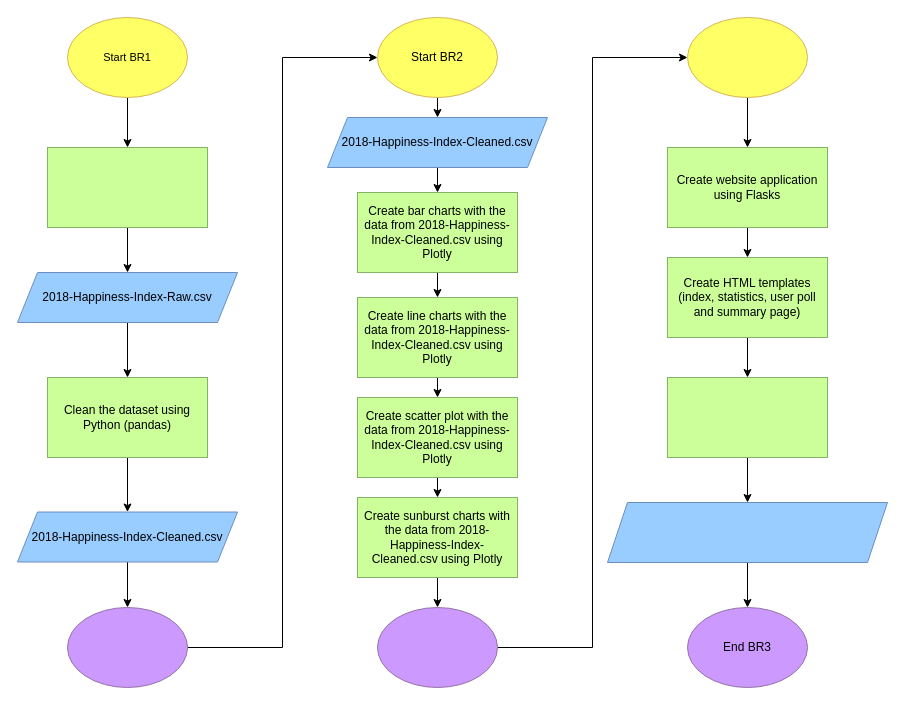
The diagram is 905 pixels wide and 705 high, and some of its shapes have lost their labels. The shapes that lost their labels are listed below. From the top down, each one's box as (x1, y1, x2, y2) in pixels, then its label:
(686, 16, 808, 98): Start BR3
(46, 146, 208, 228): Select dataset as a CSV file from a reliable source
(666, 376, 828, 458): Convert data visualisations to HTML
(606, 502, 888, 562): Display data visualisations on 'Statistics Page'
(66, 606, 188, 688): End BR1
(376, 606, 498, 688): End BR2
